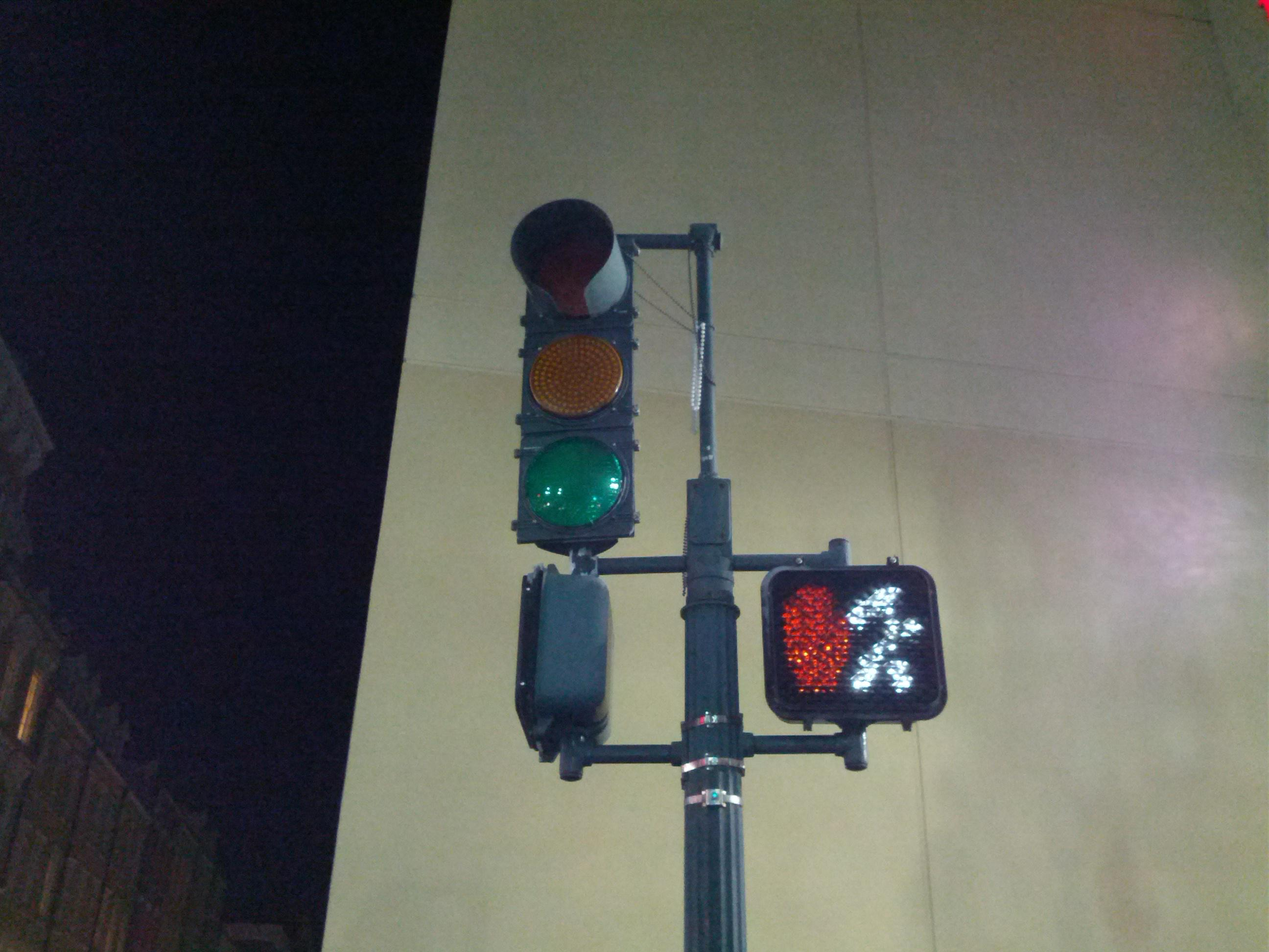off traffic light: (510, 200, 634, 541)
traffic light: (768, 570, 937, 713)
